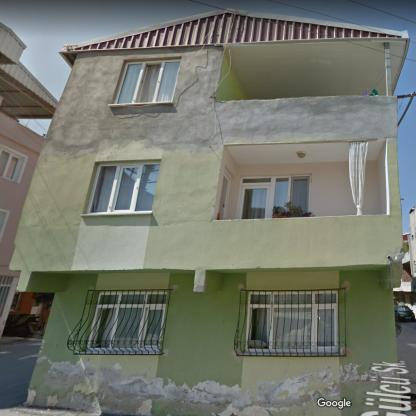door: (220, 172, 231, 219)
window: (246, 292, 338, 352), (88, 293, 167, 349), (86, 162, 159, 213), (236, 176, 310, 218), (115, 60, 179, 103), (1, 146, 27, 182), (1, 210, 7, 239)
